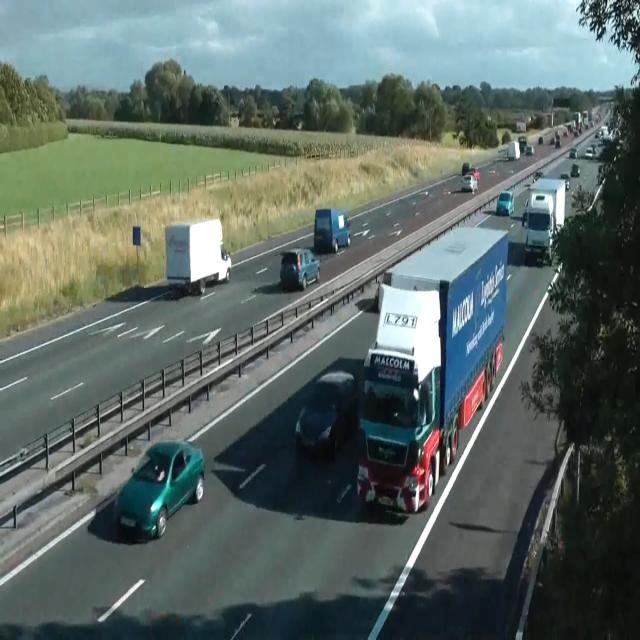bus: (115, 438, 205, 540), (547, 269, 560, 295), (462, 162, 479, 180), (560, 172, 570, 190), (532, 170, 544, 182), (570, 163, 580, 177), (585, 146, 595, 158), (524, 145, 534, 155), (569, 148, 578, 158), (538, 136, 543, 144)
car: (363, 281, 441, 411)
jeep: (294, 369, 356, 458), (280, 246, 320, 290), (496, 189, 514, 216), (460, 172, 478, 193)
minibus: (356, 225, 508, 514), (165, 217, 231, 295), (522, 178, 566, 266), (313, 207, 351, 254), (507, 140, 520, 160), (516, 121, 526, 131)
